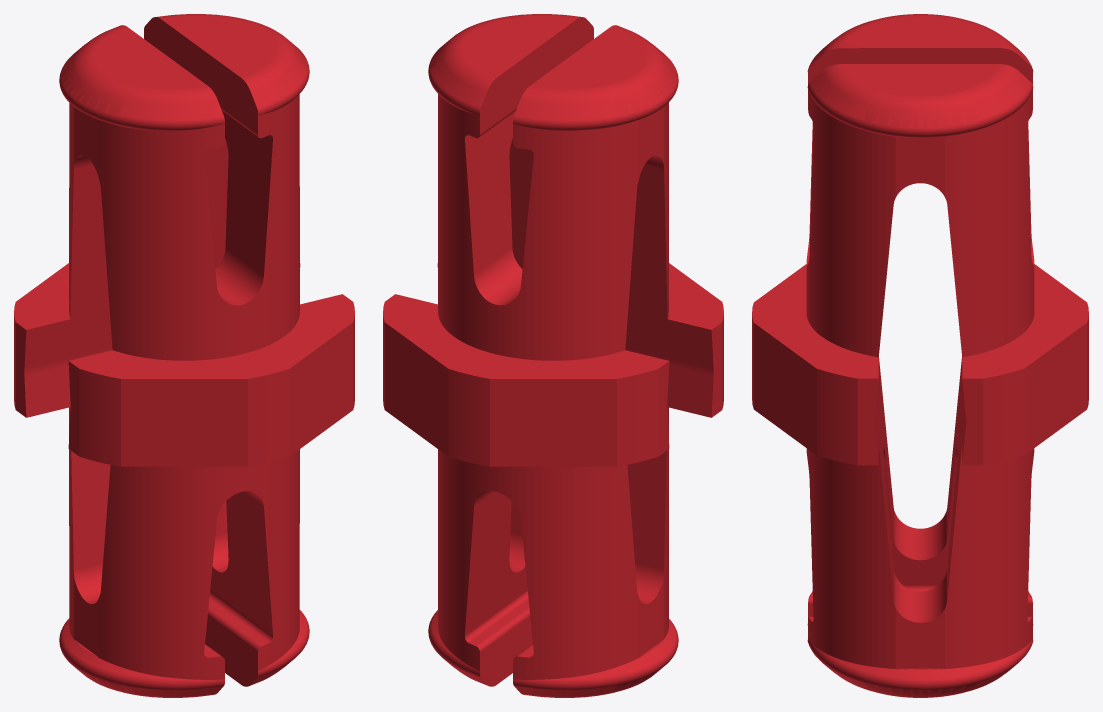
3 renders of one model, left to right at view 1: azimuth 30°, elevation 25°; view 2: azimuth 150°, elevation 25°; view 3: azimuth 270°, elevation 25°, orthographic.
Parts seen in each view (by area): view 1: 228-2500-2260; view 2: 228-2500-2260; view 3: 228-2500-2260.
Part boxes in pixels (x1=…): 228-2500-2260: x1=14, y1=14, x2=354, y2=697; 228-2500-2260: x1=383, y1=14, x2=723, y2=697; 228-2500-2260: x1=752, y1=14, x2=1088, y2=697.
Size of the model in its own units: 0.0058 by 0.0123 by 0.00625.
